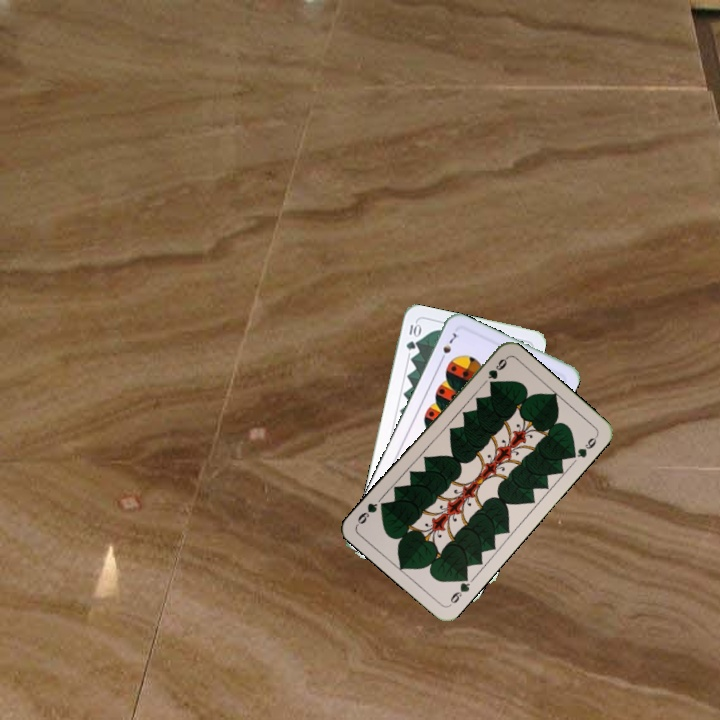G10: (402, 320, 422, 353)
G9: (479, 354, 510, 387), (446, 570, 472, 608)
S7: (436, 329, 462, 365)
